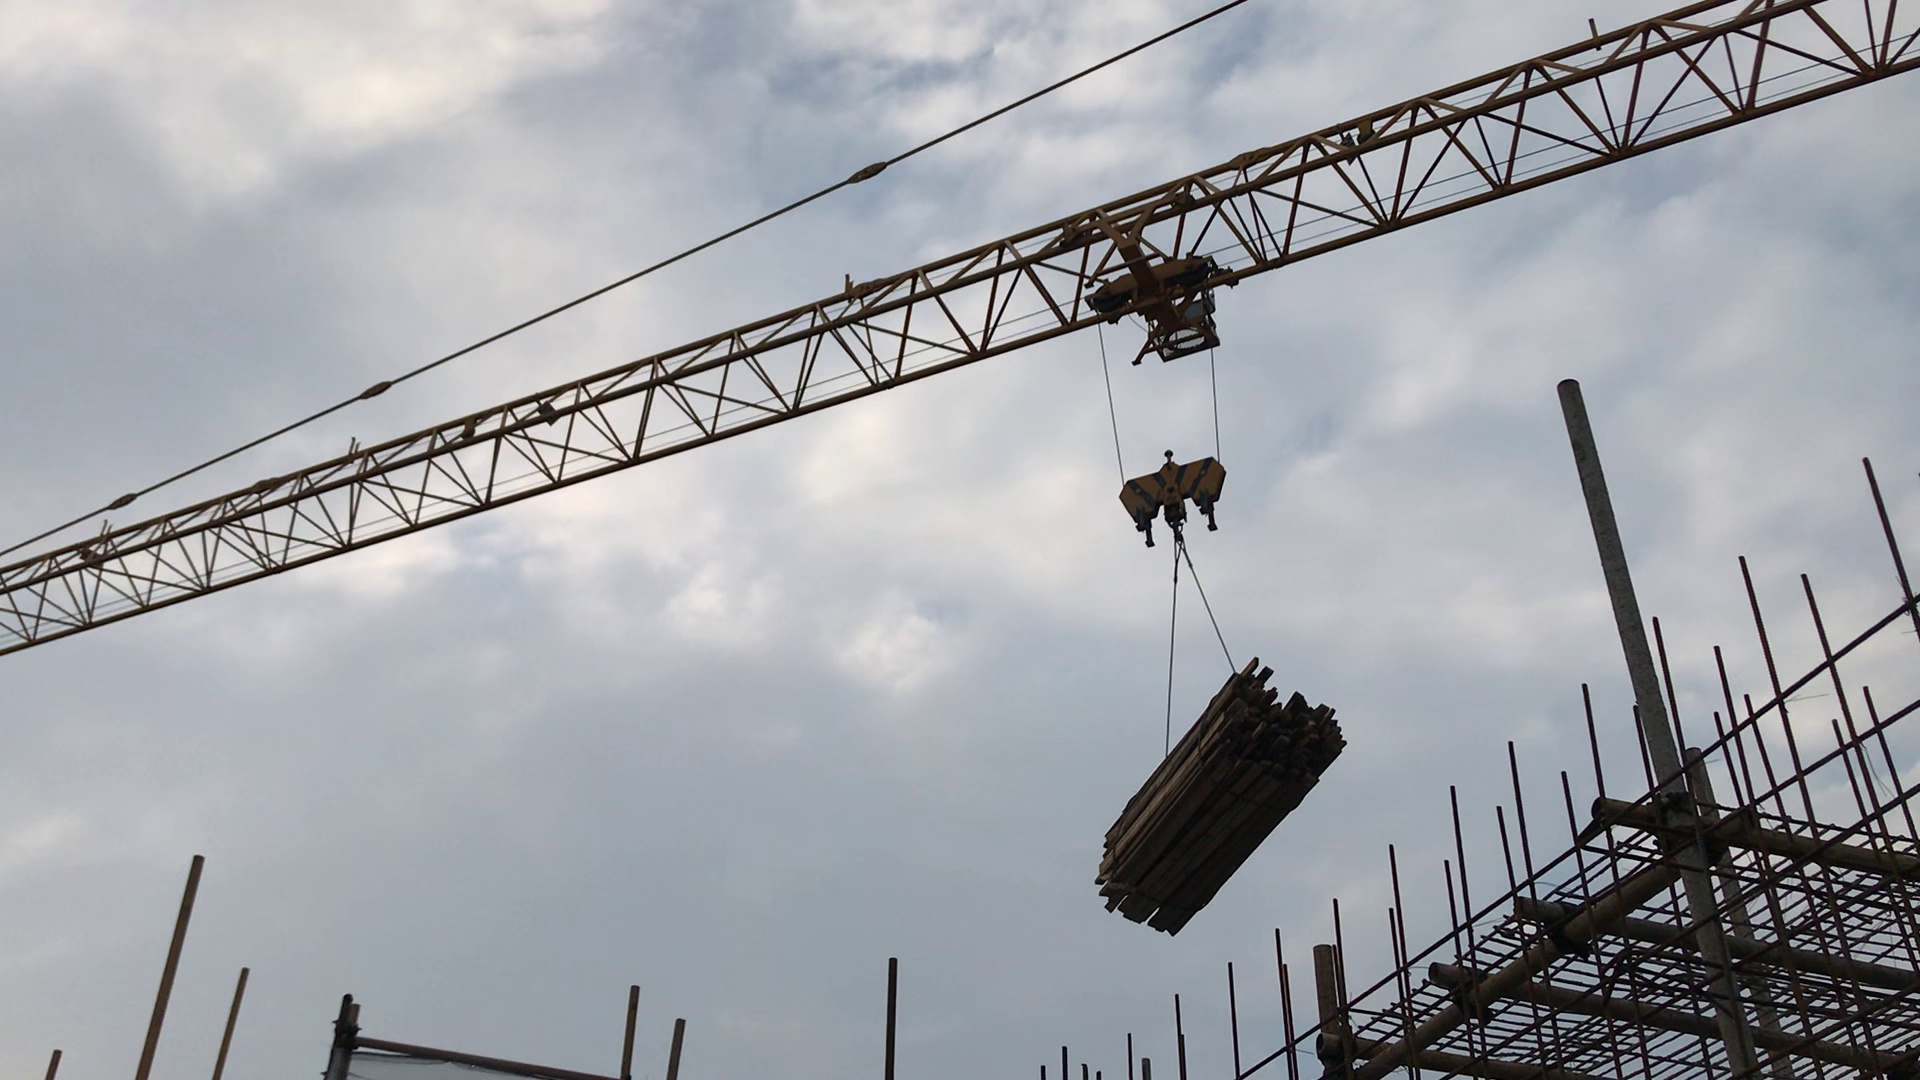hook: (1105, 446, 1244, 539)
wood: (1083, 645, 1349, 945)
